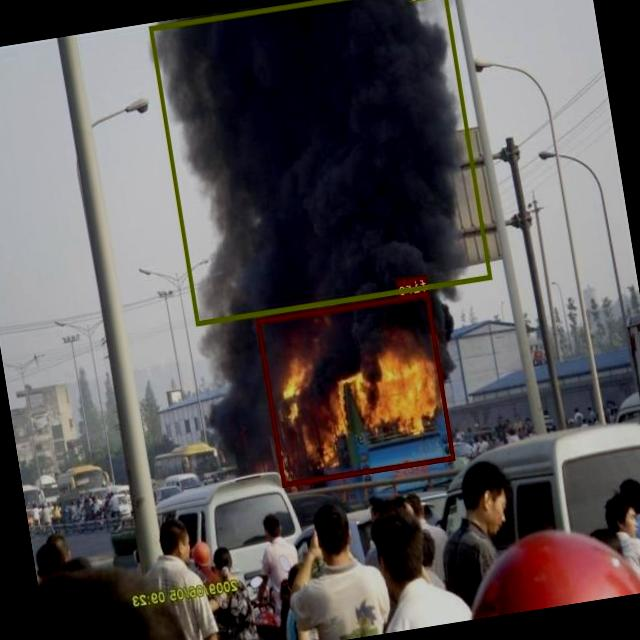fire: (256, 292, 456, 486)
smoke: (149, 0, 492, 325)
